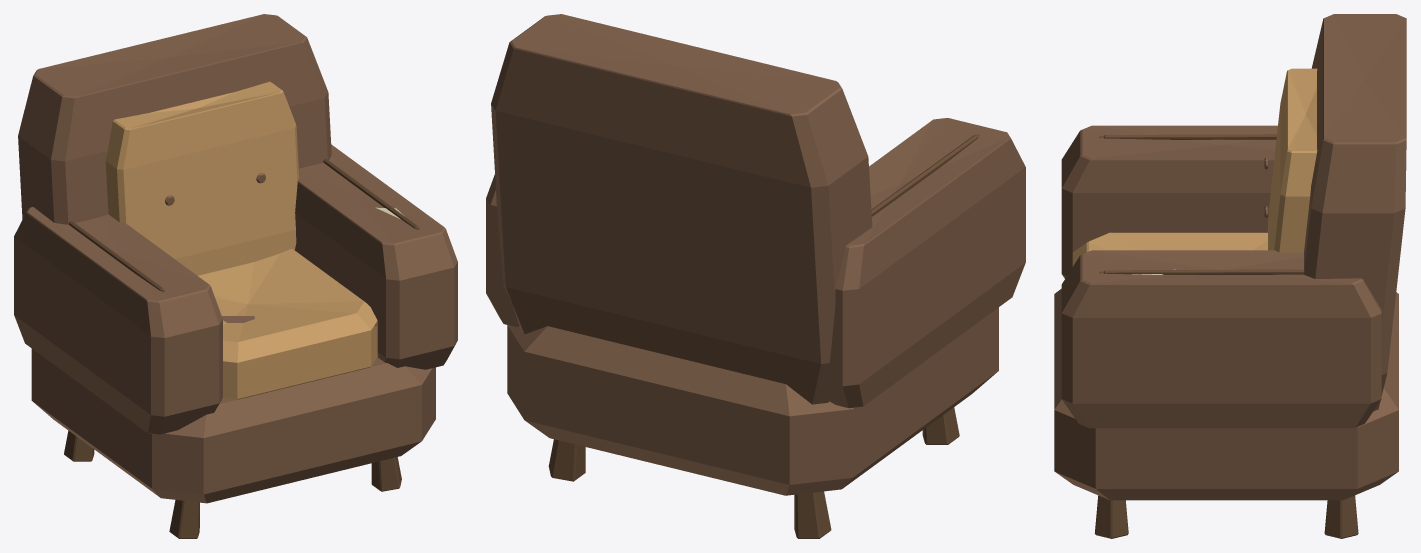
The model's file is b04_bulky_pickup_worn_armchair.glb.
3 renders of one model, left to right at view 1: azimuth 30°, elevation 25°; view 2: azimuth 150°, elevation 25°; view 3: azimuth 270°, elevation 25°, orthographic. The views are drawn at different scales.
Parts seen in each view (by area): view 1: b04_bulky_pickup_worn_armchair; view 2: b04_bulky_pickup_worn_armchair; view 3: b04_bulky_pickup_worn_armchair.
Boxes of the visible parts, x1,y1,x2,y2 form: b04_bulky_pickup_worn_armchair: [14, 14, 457, 538]; b04_bulky_pickup_worn_armchair: [486, 14, 1025, 538]; b04_bulky_pickup_worn_armchair: [1054, 14, 1406, 538].
Size of the model in its own units: 0.94 by 1.08 by 0.8586.
